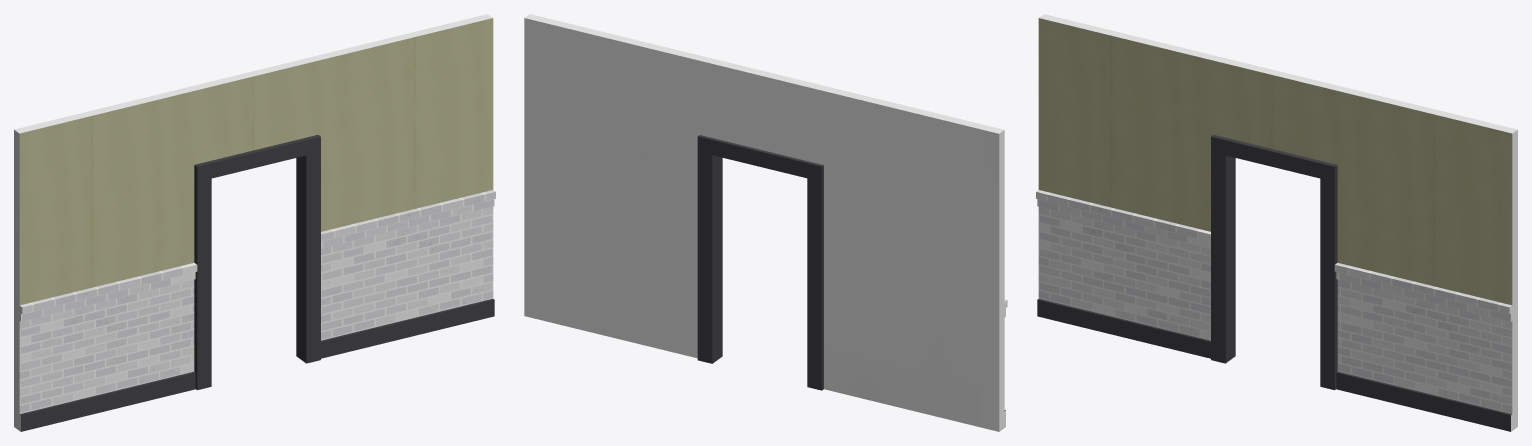
Rendered from SM_Buildings_WallDoor_5x3_01.fbx.
3 views of the same model, side by side, from view 1: azimuth 30°, elevation 25°; view 2: azimuth 150°, elevation 25°; view 3: azimuth 330°, elevation 25° (orthographic).
Parts seen in each view (by area): view 1: SM_Buildings_WallDoor_5x3_01; view 2: SM_Buildings_WallDoor_5x3_01; view 3: SM_Buildings_WallDoor_5x3_01.
Boxes of the visible parts, box(x1,y1,x2,y2) form: SM_Buildings_WallDoor_5x3_01: box(14, 14, 495, 431); SM_Buildings_WallDoor_5x3_01: box(524, 14, 1007, 431); SM_Buildings_WallDoor_5x3_01: box(1036, 14, 1517, 431).
Bounding box in the file's own units: 500 × 300 × 18.64.
1 material, 1 textured.
